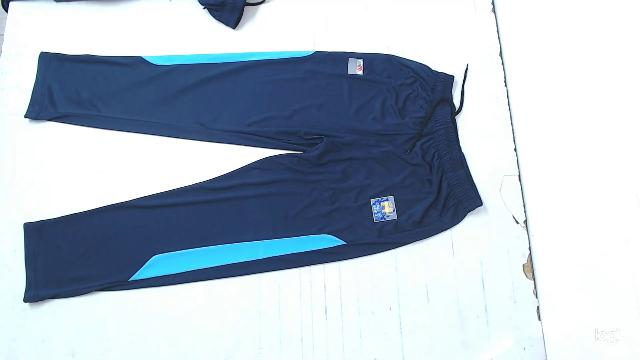new-garment: (24, 51, 482, 302)
